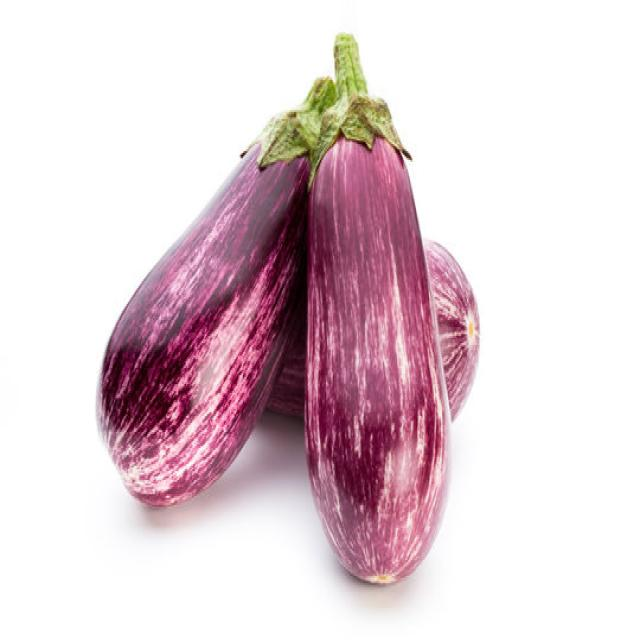Eggplant: (95, 61, 334, 507), (302, 30, 452, 585), (263, 235, 480, 423)
